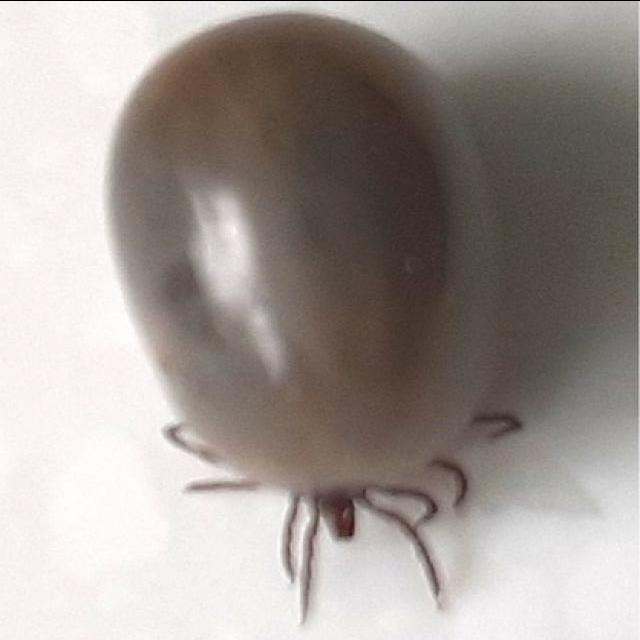Ixodes Ricinus-F-Fed: (103, 10, 519, 612)
